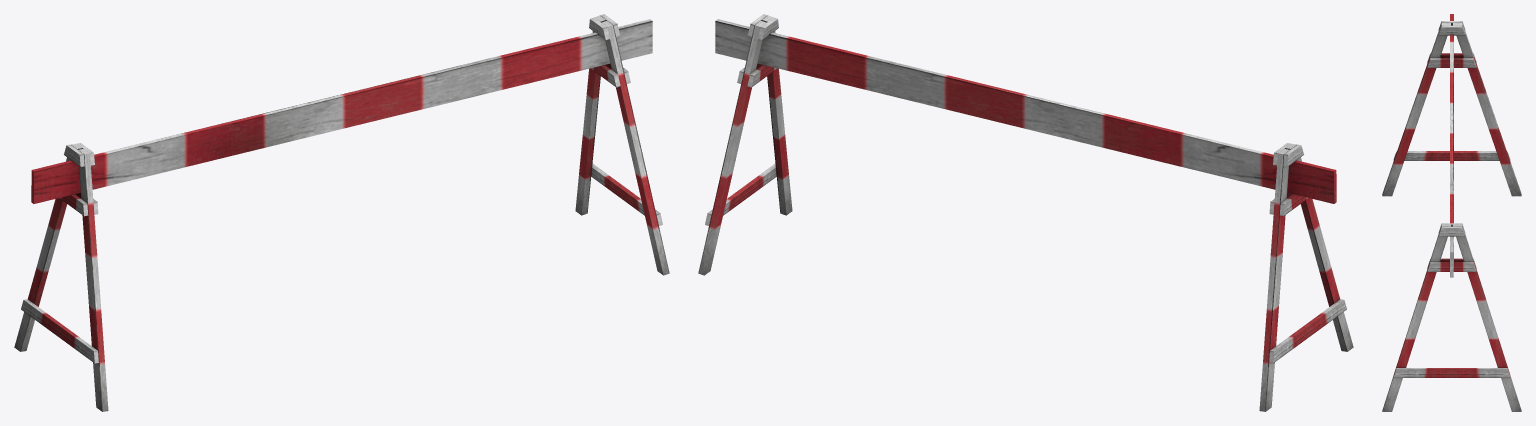
File: barrier_3m.glb
3 renders of one model, left to right at view 1: azimuth 30°, elevation 25°; view 2: azimuth 150°, elevation 25°; view 3: azimuth 270°, elevation 25°, orthographic. The views are drawn at different scales.
Parts seen in each view (by area): view 1: Barieraka_Drewno_3m_0; view 2: Barieraka_Drewno_3m_0; view 3: Barieraka_Drewno_3m_0.
Boxes of the visible parts, x1,y1,x2,y2 form: Barieraka_Drewno_3m_0: (14, 14, 669, 411); Barieraka_Drewno_3m_0: (698, 14, 1353, 411); Barieraka_Drewno_3m_0: (1382, 14, 1521, 411).
Bounding box in the file's own units: 3 × 1.05 × 0.74.
1 material, 1 textured.
